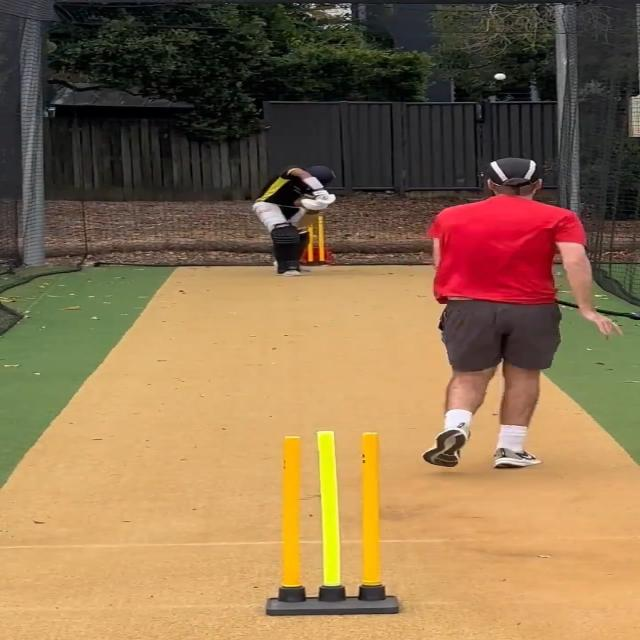ball: (492, 72, 506, 82)
stump: (268, 428, 394, 615)
